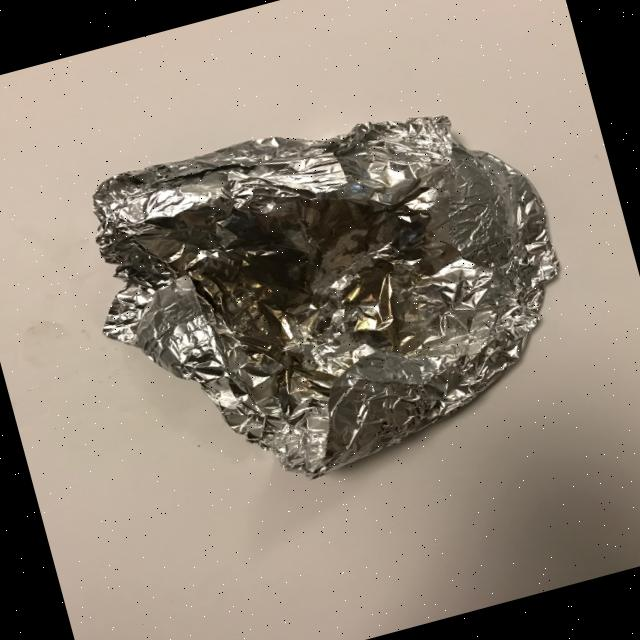metal: (63, 68, 598, 522)
